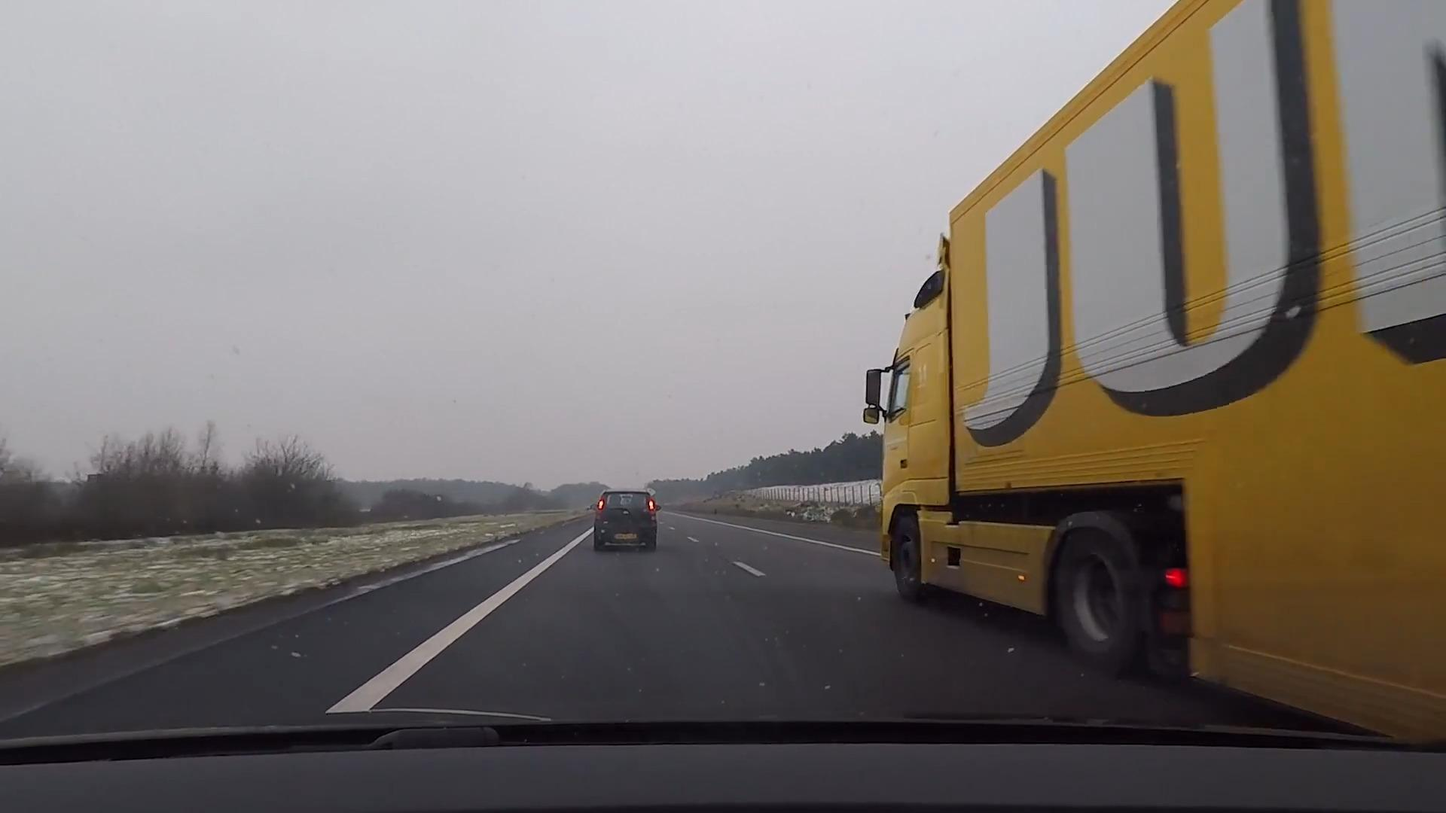Snow: (0, 510, 587, 666), (721, 491, 879, 525)
dry: (0, 508, 1389, 741)
